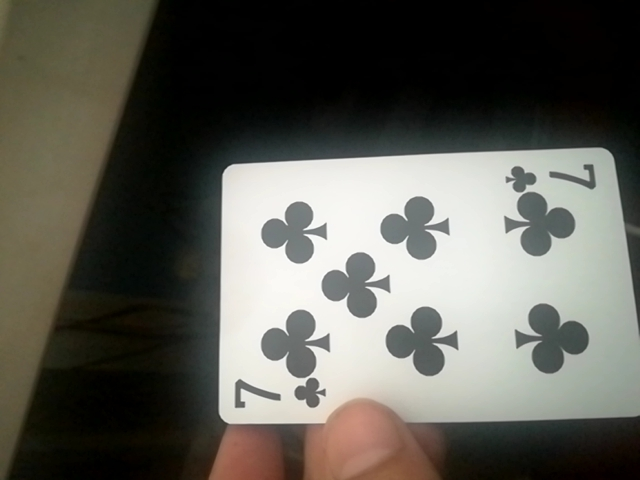mh 7: (207, 145, 637, 431)
